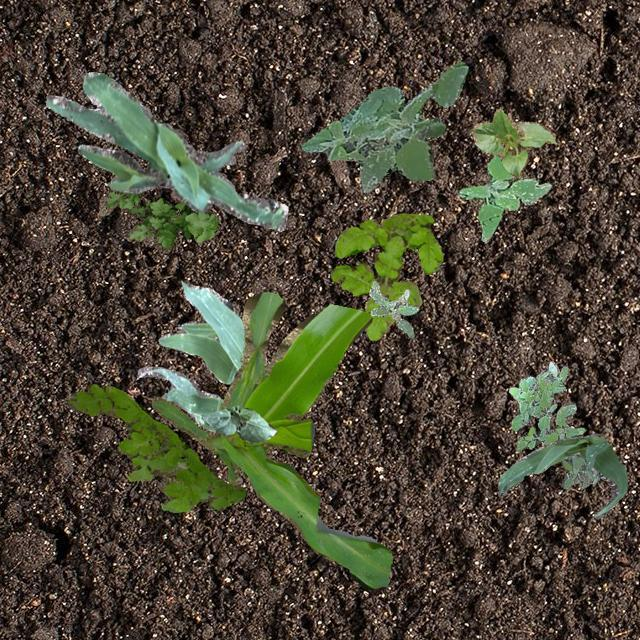crop: (150, 290, 392, 590), (45, 72, 286, 230), (136, 279, 245, 432), (498, 432, 626, 518), (471, 108, 555, 178), (200, 404, 276, 442)
weed: (66, 384, 244, 512), (300, 61, 468, 192), (329, 212, 442, 340), (458, 154, 550, 240), (98, 192, 216, 252), (508, 360, 584, 450), (368, 280, 418, 338), (560, 434, 600, 488)
